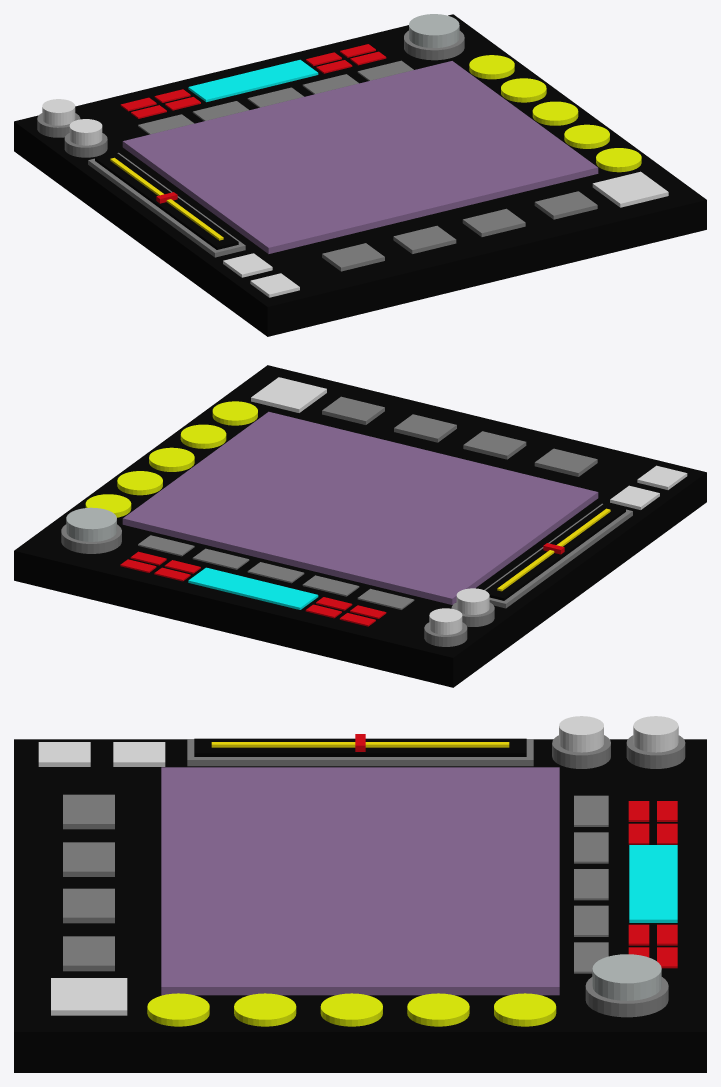
The model's file is beatMachine.fbx.
The picture shows the model from 3 angles, top to bottom: view 1: azimuth 30°, elevation 25°; view 2: azimuth 150°, elevation 25°; view 3: azimuth 270°, elevation 25°; orthographic projection. The views are drawn at different scales.
Visible parts, largest first — view 1: deviceBase, mainScreen, sliderHousing, smallScreen, sliderBody, Cube.018, bigKnob, Cube.004, Cube.002, Cube.003, Cube.001, circleButton.002 (+16 smaller); view 2: deviceBase, mainScreen, sliderHousing, smallScreen, Cube.018, sliderBody, bigKnob, Cube.002, Cube.001, Cube.003, Cube.004, circleButton.003 (+16 smaller); view 3: deviceBase, mainScreen, sliderHousing, smallScreen, sliderBody, Cube.018, bigKnob, Cube.001, Cube.003, Cube.004, Cube.002, circleButton.001 (+17 smaller).
Boxes of the visible parts, left/top/right/bottom form: deviceBase: left=14, top=14, right=706, bottom=336; mainScreen: left=122, top=61, right=598, bottom=253; sliderHousing: left=95, top=153, right=238, bottom=249; smallScreen: left=188, top=59, right=318, bottom=102; sliderBody: left=88, top=152, right=245, bottom=257; Cube.018: left=592, top=171, right=668, bottom=207; bigKnob: left=409, top=14, right=459, bottom=47; Cube.004: left=534, top=191, right=597, bottom=219; Cube.002: left=393, top=225, right=456, bottom=253; Cube.003: left=462, top=208, right=525, bottom=236; Cube.001: left=322, top=243, right=384, bottom=271; circleButton.002: left=532, top=101, right=578, bottom=125; deviceBase: left=14, top=365, right=706, bottom=687; mainScreen: left=122, top=411, right=598, bottom=604; sliderHousing: left=485, top=504, right=625, bottom=600; smallScreen: left=188, top=567, right=318, bottom=609; Cube.018: left=251, top=377, right=326, bottom=412; sliderBody: left=484, top=503, right=632, bottom=608; bigKnob: left=66, top=507, right=116, bottom=541; Cube.002: left=463, top=431, right=526, bottom=459; Cube.001: left=534, top=448, right=597, bottom=476; Cube.003: left=394, top=414, right=456, bottom=442; Cube.004: left=322, top=396, right=384, bottom=424; circleButton.003: left=180, top=424, right=226, bottom=448; deviceBase: left=14, top=739, right=706, bottom=1072; mainScreen: left=161, top=767, right=559, bottom=995; sliderHousing: left=194, top=738, right=526, bottom=756; smallScreen: left=629, top=845, right=677, bottom=922; sliderBody: left=187, top=739, right=533, bottom=766; Cube.018: left=51, top=978, right=127, bottom=1015; bigKnob: left=592, top=954, right=661, bottom=1000; Cube.001: left=63, top=794, right=114, bottom=829; Cube.003: left=63, top=888, right=114, bottom=923; Cube.004: left=63, top=936, right=114, bottom=971; Cube.002: left=63, top=842, right=114, bottom=876; circleButton.001: left=407, top=993, right=469, bottom=1026.
Size of the model in its own units: 400 by 45.75 by 400.
